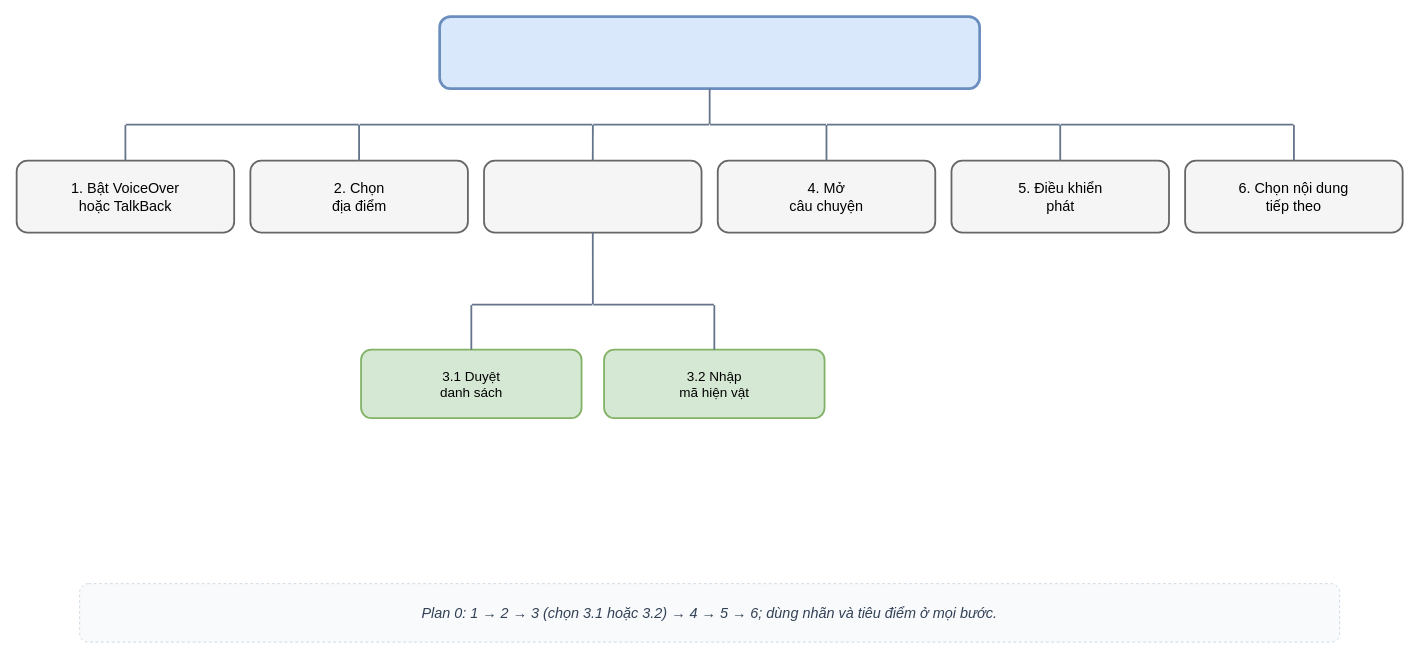
The diagram is 1418 pixels wide and 658 high, and some of its shapes have lost their labels. Each missing label, with the box of its shape:
0. Hoàn thành luồng chính bằng trình đọc màn hình: (438, 15, 981, 90)
3. Chọn hiện vật: (483, 159, 702, 233)
